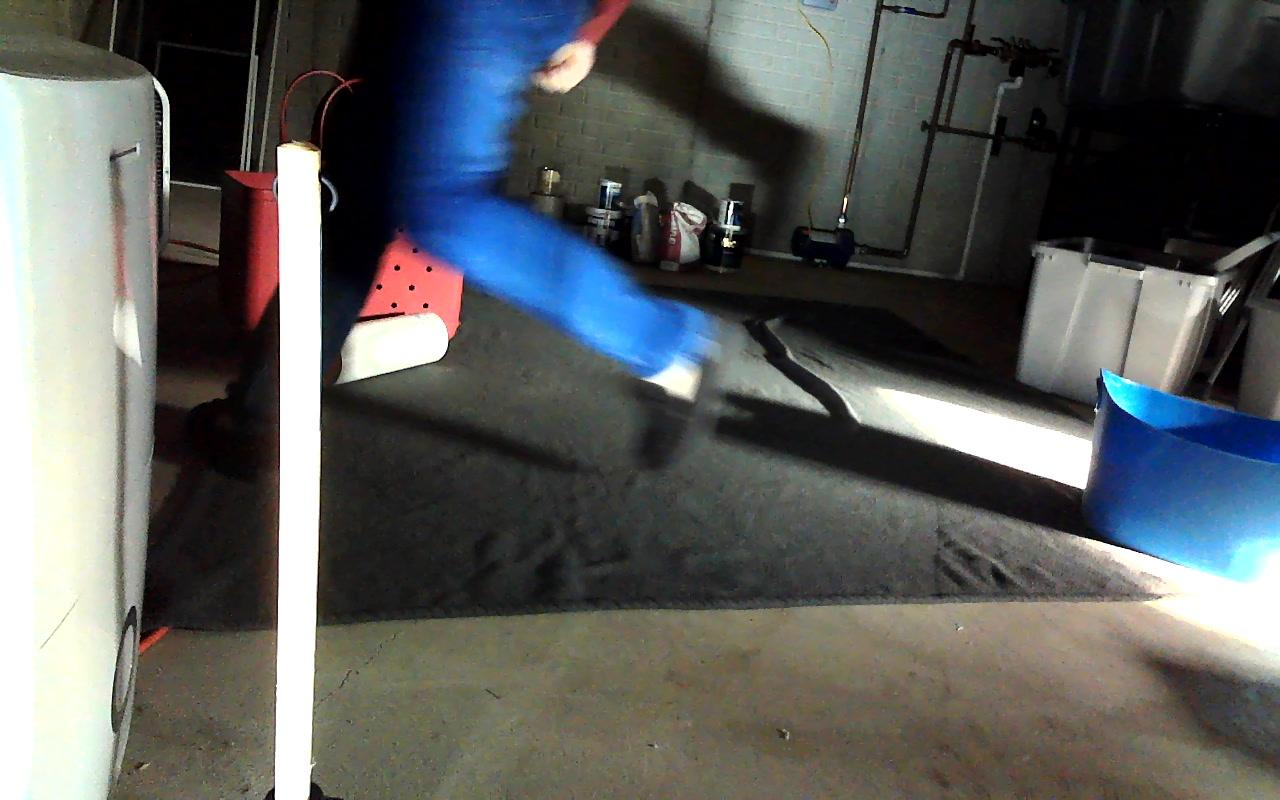coral: (336, 311, 448, 385)
